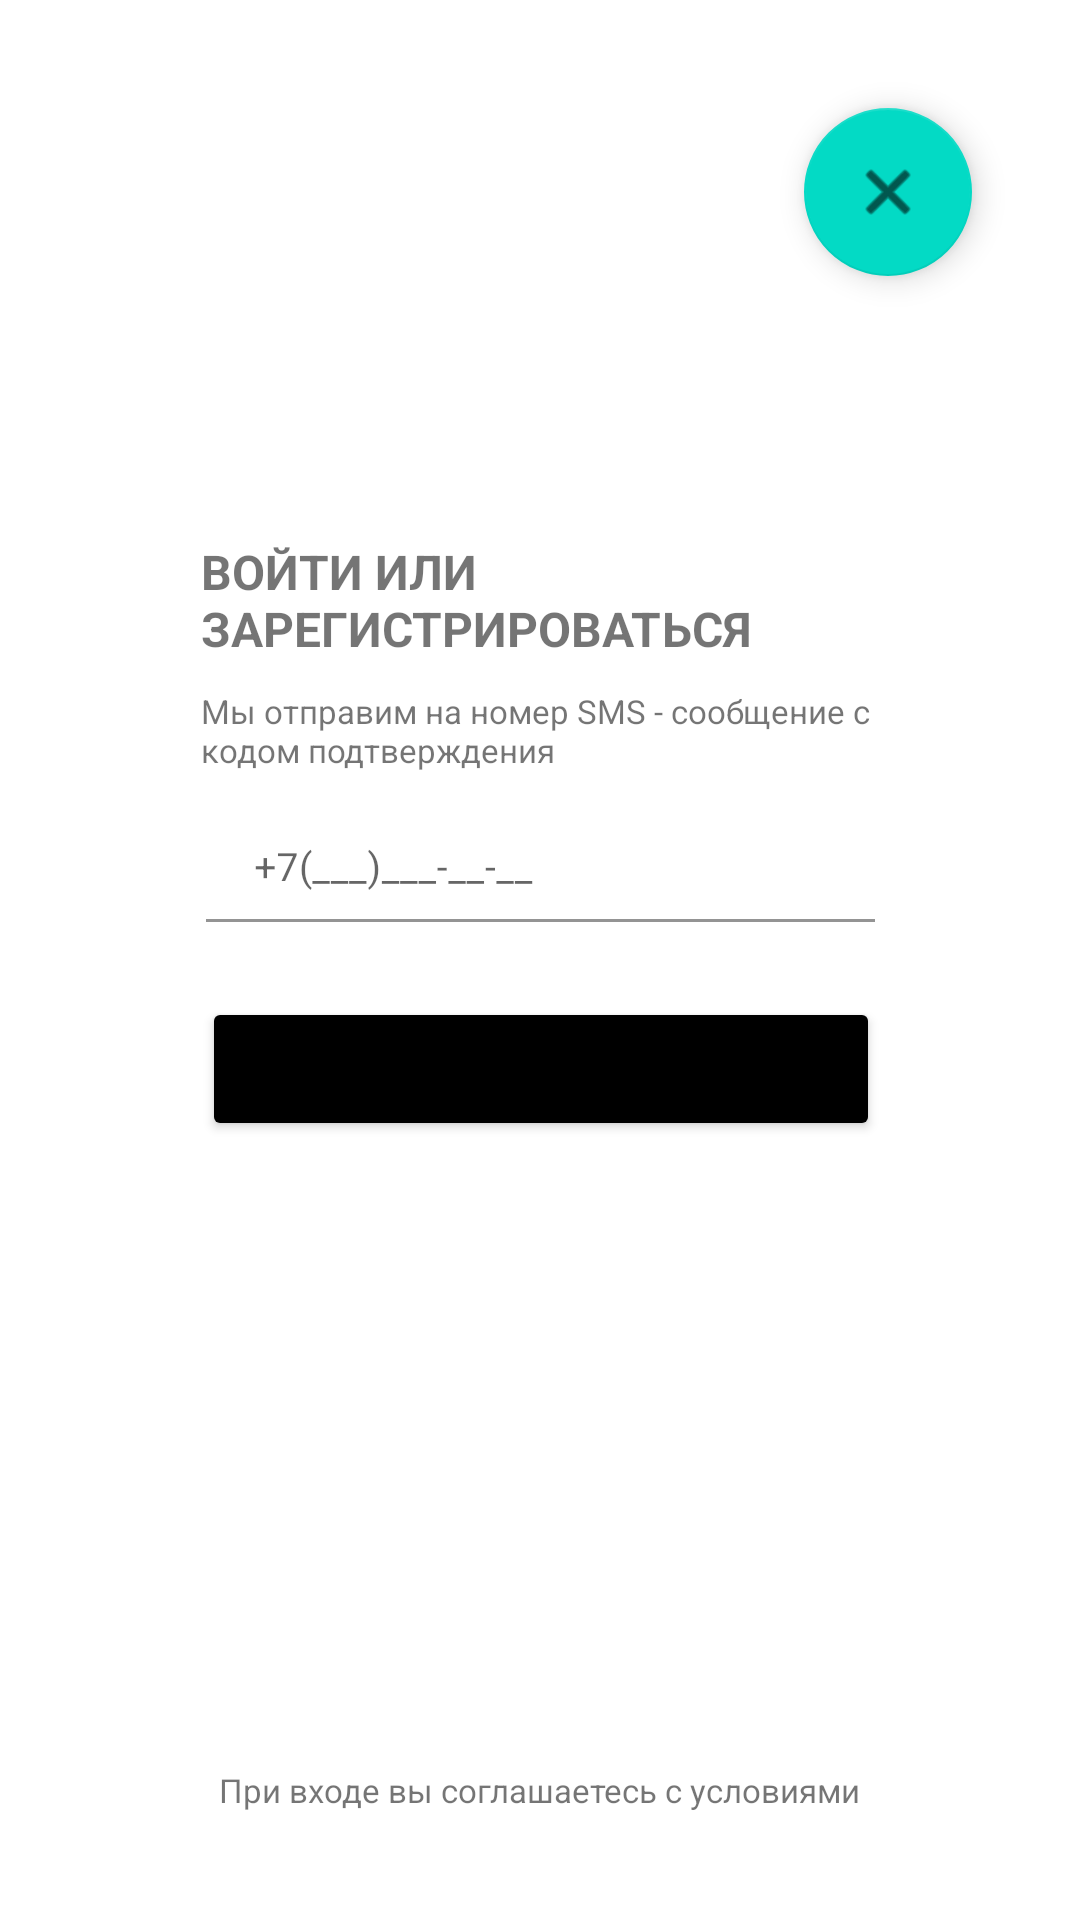

Named icons in this screenshot (1080 × 1920) and their bounding boxes, (x1, y1, x2, y2):
Just a simple close button: (804, 108, 972, 276)
